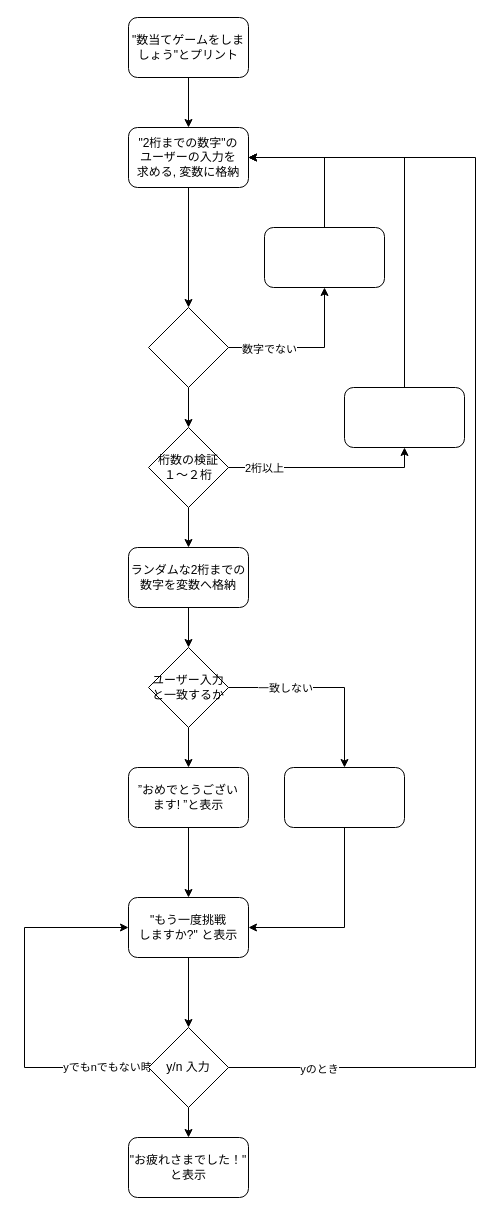
Image size: 501x1215. Some labels were removed from this diagram. Here are the shapes that lost their labels. From the top down, the centre of each, then its label:
the point at 324,257: ”数字を入力してください”と表示し入力に戻る
the point at 188,347: int型か チェック
the point at 404,417: "数字は２桁までです" とプリント
the point at 344,797: "残念！はずれ"と表示
